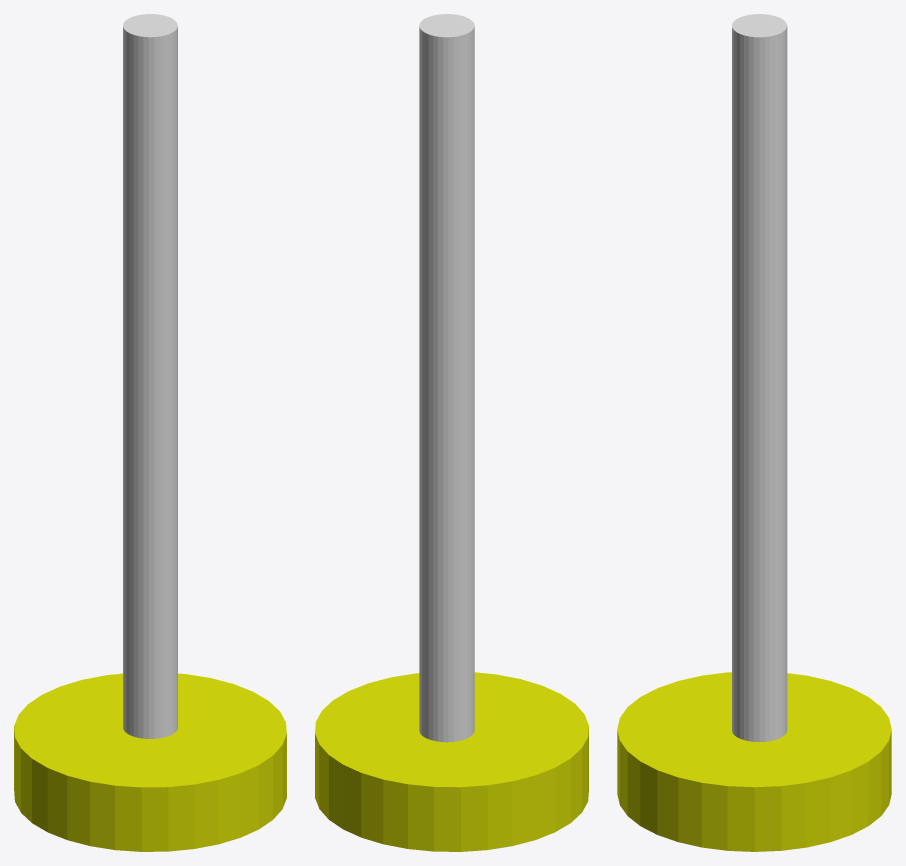
The model's file is Towers of Hanoi 1 ring second.fbx.
The picture shows the model from 3 angles, left to right: view 1: azimuth 30°, elevation 25°; view 2: azimuth 150°, elevation 25°; view 3: azimuth 270°, elevation 25°; orthographic projection.
Parts seen in each view (by area): view 1: Cylinder, Cylinder.003; view 2: Cylinder, Cylinder.003; view 3: Cylinder, Cylinder.003.
Part boxes in pixels (x1=…): Cylinder: x1=123, y1=14, x2=177, y2=738; Cylinder.003: x1=14, y1=673, x2=286, y2=851; Cylinder: x1=419, y1=14, x2=474, y2=742; Cylinder.003: x1=315, y1=672, x2=588, y2=851; Cylinder: x1=732, y1=14, x2=787, y2=741; Cylinder.003: x1=617, y1=672, x2=891, y2=851.
Bounding box in the file's own units: 160 × 505 × 160.
